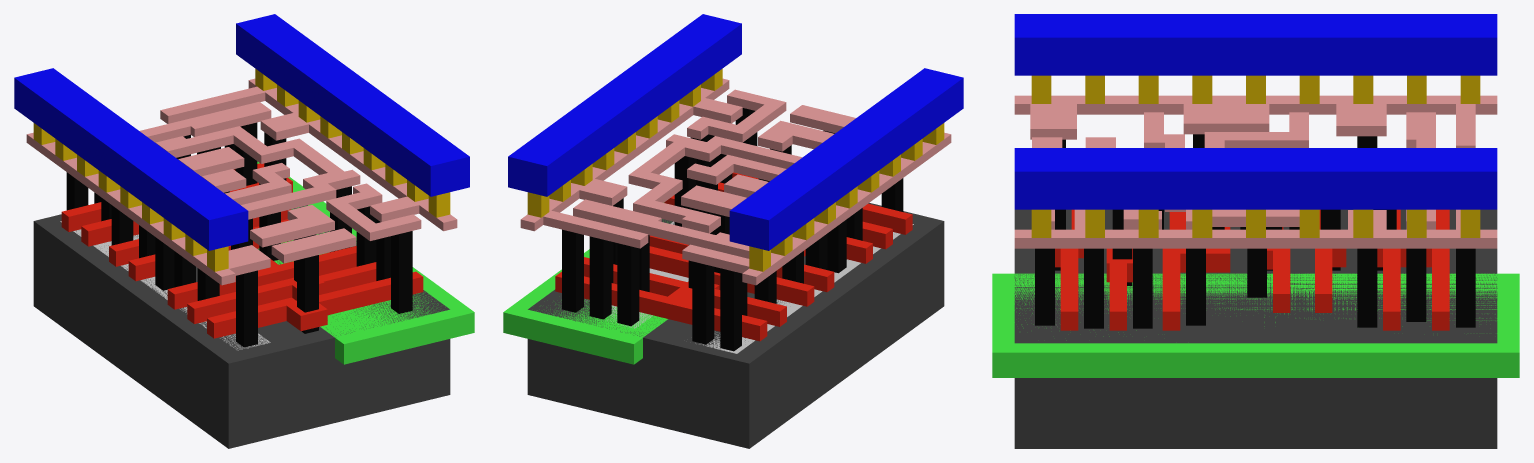
File: sky130_fd_sc_hd__a2bb2o_2.obj
The picture shows the model from 3 angles, left to right: view 1: azimuth 30°, elevation 25°; view 2: azimuth 150°, elevation 25°; view 3: azimuth 270°, elevation 25°; orthographic projection. The views are drawn at different scales.
Parts seen in each view (by area): view 1: subs, metal1, li, poly, licon, nwell, mcon, diff; view 2: subs, metal1, li, licon, poly, nwell, mcon, diff, tap; view 3: metal1, subs, li, nwell, licon, poly, mcon.
Part boxes in pixels (<box>): subs: <box>33,205,450,448</box>; metal1: <box>14,14,469,250</box>; li: <box>26,78,457,285</box>; poly: <box>61,163,423,338</box>; licon: <box>66,122,412,347</box>; nwell: <box>257,161,474,364</box>; mcon: <box>33,68,450,271</box>; diff: <box>60,221,270,350</box>; subs: <box>527,203,944,448</box>; metal1: <box>508,14,963,250</box>; li: <box>520,78,951,285</box>; licon: <box>562,108,903,351</box>; poly: <box>555,172,912,341</box>; nwell: <box>503,221,667,364</box>; mcon: <box>527,68,944,271</box>; diff: <box>695,224,913,353</box>; tap: <box>585,221,688,328</box>; metal1: <box>1014,14,1497,209</box>; subs: <box>1014,209,1497,448</box>; li: <box>1014,95,1497,248</box>; nwell: <box>992,273,1519,377</box>; licon: <box>1035,134,1475,328</box>; poly: <box>1055,209,1449,330</box>; mcon: <box>1031,75,1480,237</box>.
Size of the model in its own units: 3.2 by 2.74 by 4.52.
